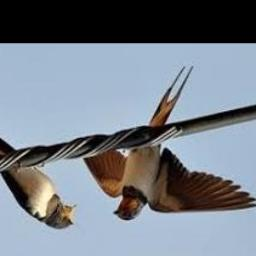Swallow: (81, 67, 256, 221), (0, 125, 76, 228)
